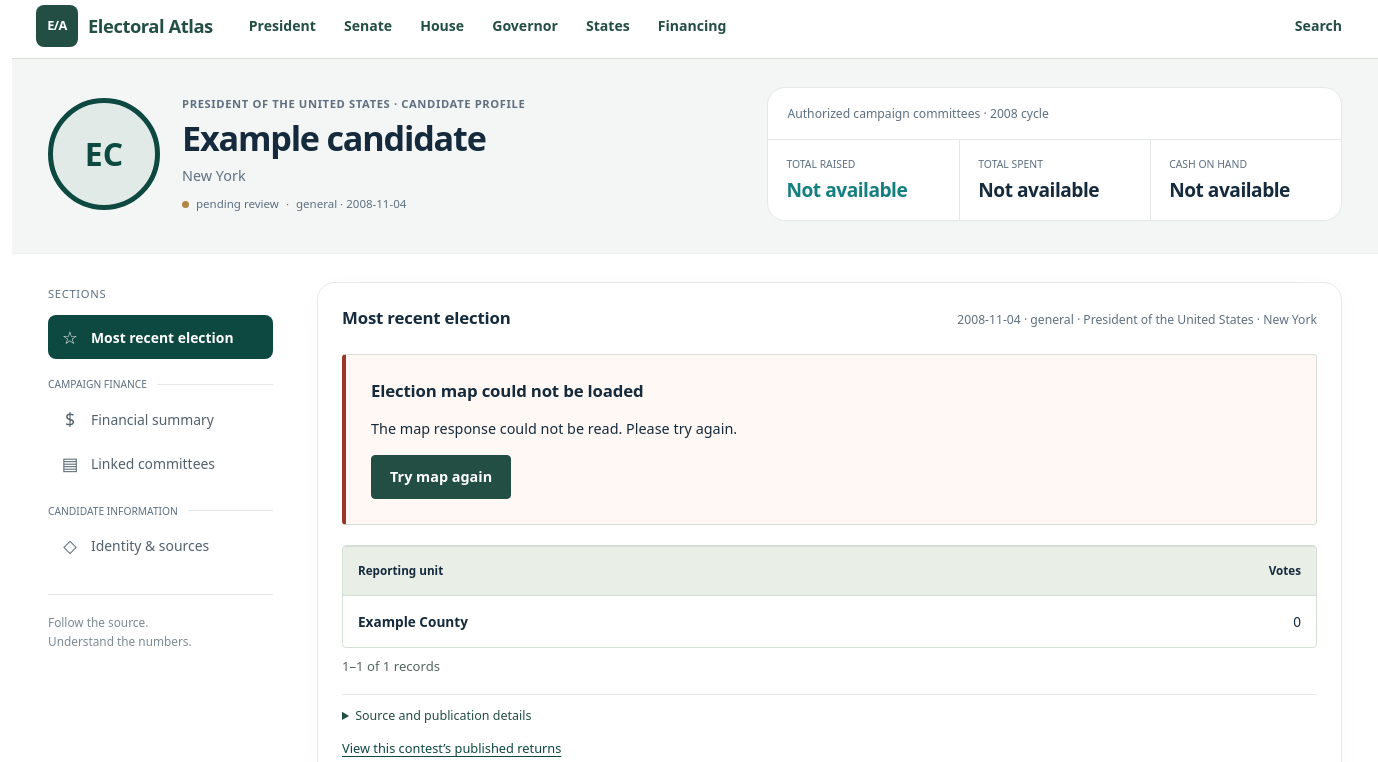
Test: candidate profiles › loads a shareable profile without requiring explorer filters
expect the heading "Example candidate" is shown: met, box [182, 117, 525, 158]
expect the heading "Most recent election" is shown: met, box [342, 307, 511, 330]
Click the heading "Source and publication details" at (443, 716), box [355, 707, 531, 724]
(page scrolled)
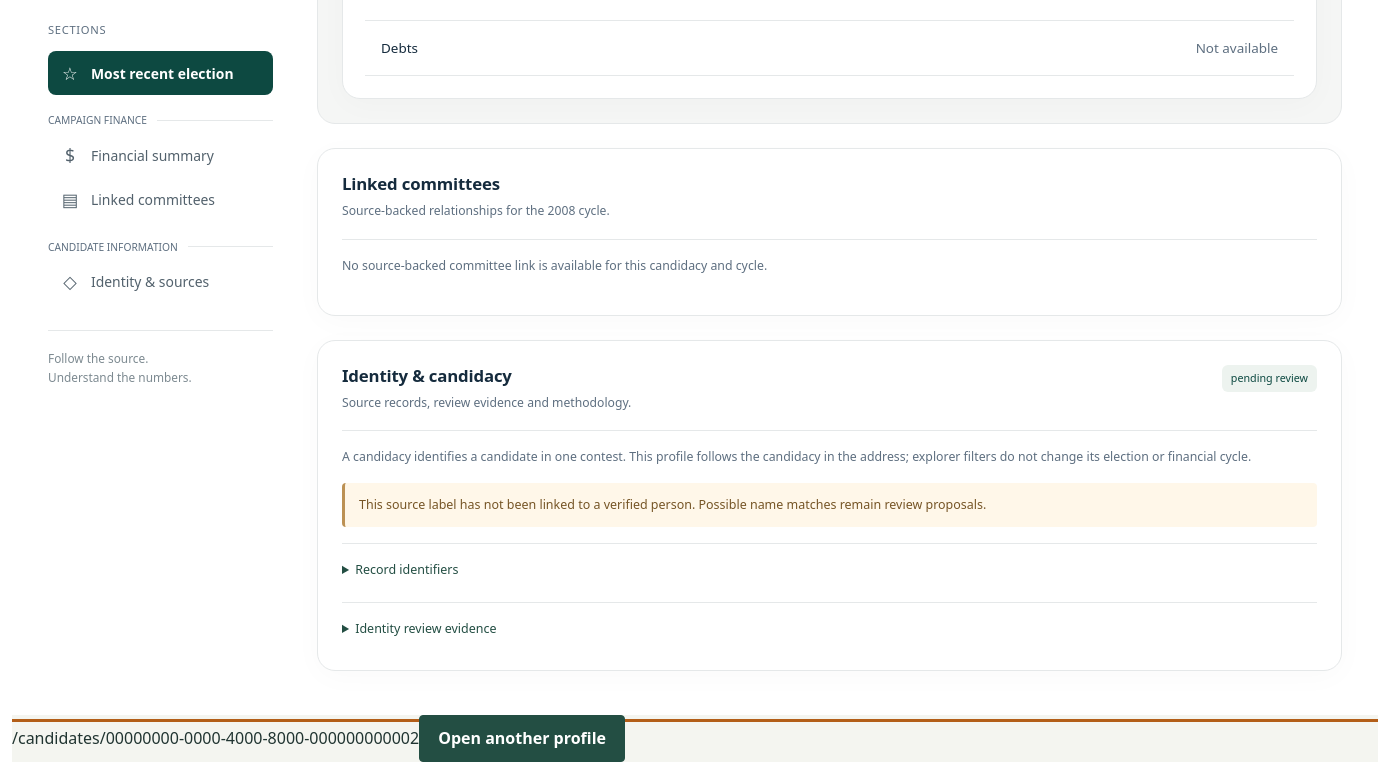
expect the navigation bar named "Candidate profile sections" is shown: met, box [48, 51, 273, 304]
Click the heading "Identity review evidence" at (426, 629), box [355, 620, 496, 637]
(page scrolled)
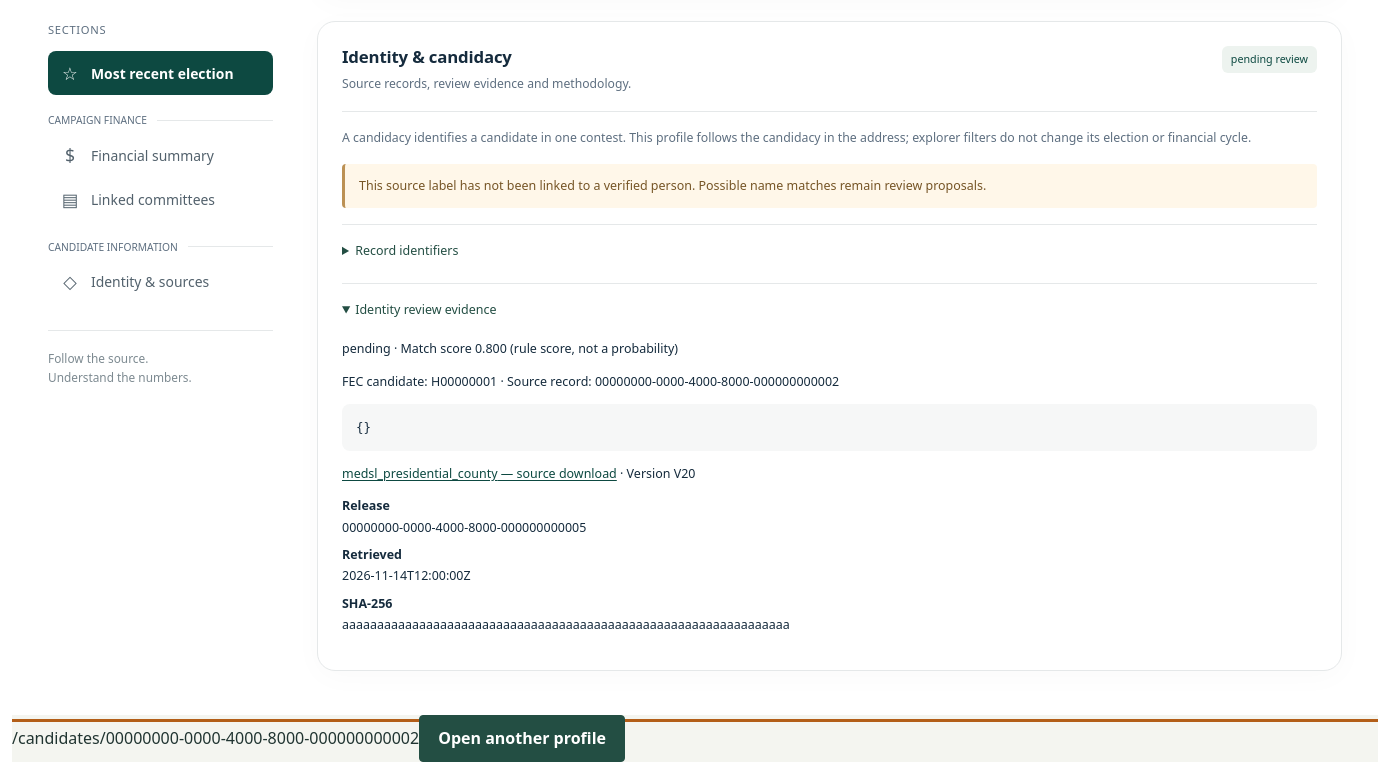
expect the text "FEC candidate: H00000001" is shown: met, box [342, 373, 839, 390]
